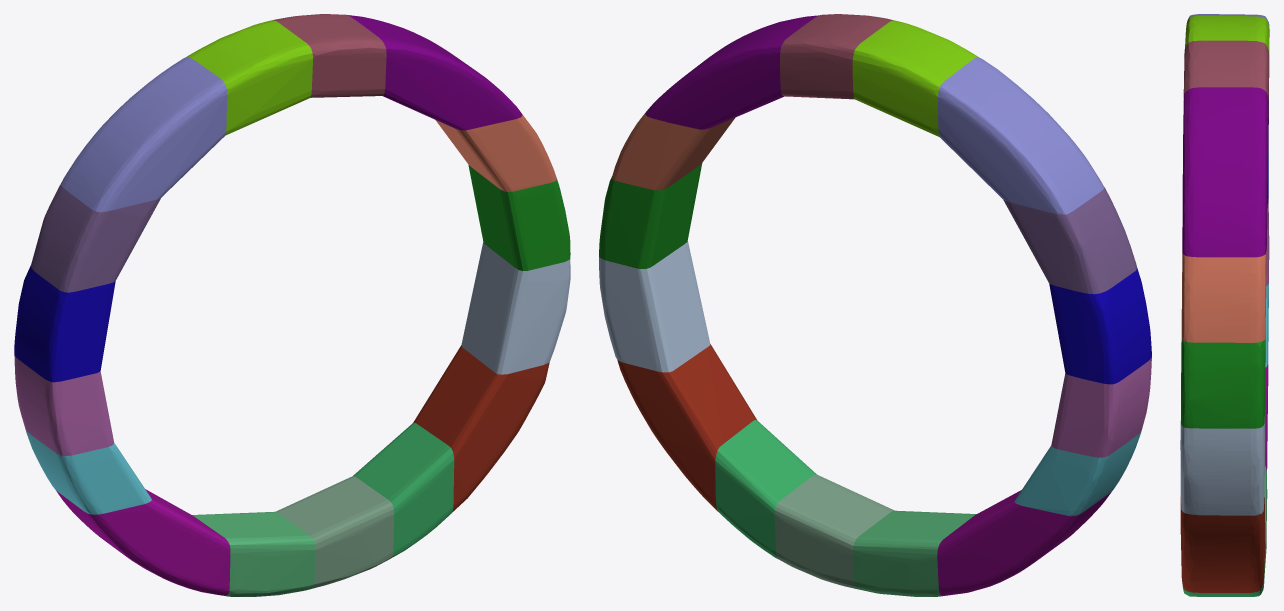
Rendered from coacd_collision.obj.
3 renders of one model, left to right at view 1: azimuth 30°, elevation 25°; view 2: azimuth 150°, elevation 25°; view 3: azimuth 270°, elevation 25°, orthographic. The views are drawn at different scales.
Visible parts, largest first — view 1: geometry_12, geometry_15, geometry_6, geometry_11, geometry_14, geometry_4, geometry_5, geometry_1, geometry_0, geometry_10, geometry_3, geometry_8 (+4 smaller); view 2: geometry_12, geometry_15, geometry_6, geometry_14, geometry_11, geometry_4, geometry_5, geometry_1, geometry_0, geometry_10, geometry_3, geometry_8 (+4 smaller); view 3: geometry_11, geometry_6, geometry_8, geometry_9, geometry_15, geometry_13, geometry_4, geometry_10, geometry_14, geometry_2, geometry_7, geometry_12 (+1 smaller).
Boxes of the visible parts, x1,y1,x2,y2 form: geometry_12: [61, 56, 227, 212]; geometry_15: [413, 345, 549, 511]; geometry_6: [461, 242, 570, 374]; geometry_11: [348, 15, 522, 130]; geometry_14: [56, 489, 230, 595]; geometry_4: [187, 20, 312, 135]; geometry_5: [14, 265, 115, 382]; geometry_1: [31, 184, 160, 292]; geometry_0: [275, 476, 393, 588]; geometry_10: [353, 423, 454, 557]; geometry_3: [192, 511, 315, 596]; geometry_8: [468, 165, 570, 270]; geometry_12: [937, 57, 1104, 214]; geometry_15: [617, 344, 757, 511]; geometry_6: [599, 241, 710, 372]; geometry_14: [937, 490, 1111, 596]; geometry_11: [645, 15, 818, 129]; geometry_4: [852, 20, 978, 136]; geometry_5: [1049, 268, 1151, 384]; geometry_1: [1003, 187, 1137, 294]; geometry_0: [774, 474, 894, 588]; geometry_10: [715, 420, 816, 558]; geometry_3: [853, 510, 976, 596]; geometry_8: [599, 163, 702, 268]; geometry_11: [1182, 87, 1268, 257]; geometry_6: [1180, 410, 1265, 515]; geometry_8: [1181, 335, 1265, 428]; geometry_9: [1181, 246, 1266, 342]; geometry_15: [1180, 496, 1265, 592]; geometry_13: [1183, 40, 1269, 99]; geometry_4: [1185, 15, 1269, 54]; geometry_10: [1182, 542, 1266, 596]; geometry_14: [1265, 364, 1268, 470]; geometry_2: [1265, 284, 1268, 367]; geometry_7: [1266, 199, 1269, 286]; geometry_12: [1187, 14, 1269, 31].
Bounding box in the file's own units: 93.58 × 93.72 × 14.32.
